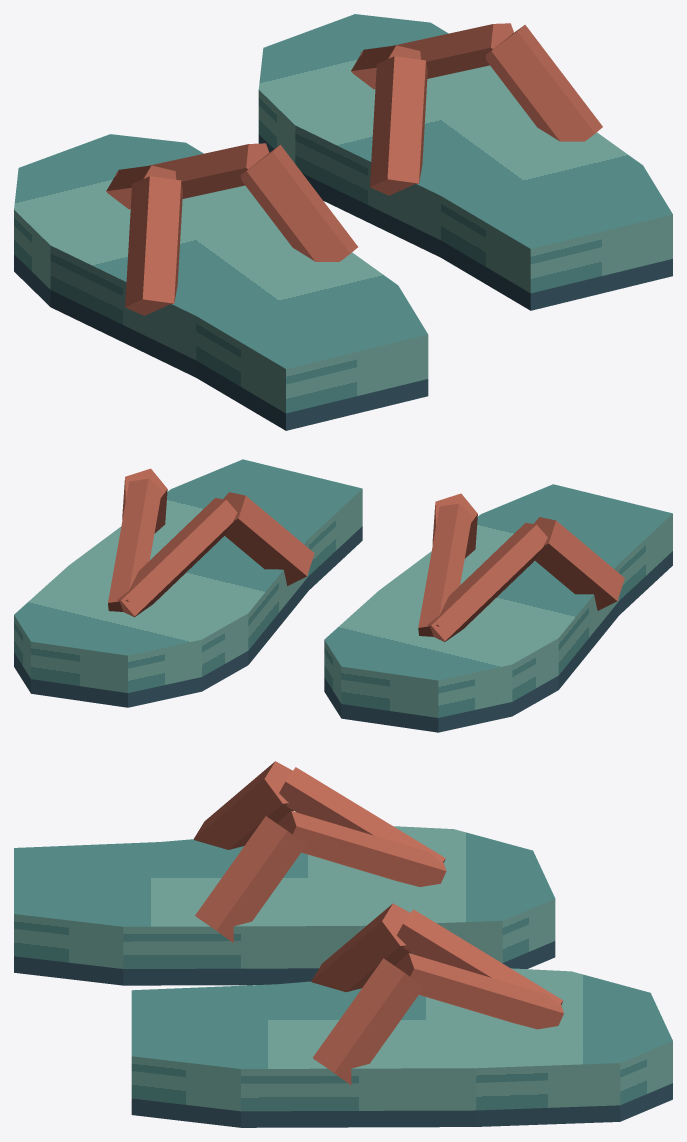
Rendered from flip-flops.glb.
The picture shows the model from 3 angles, top to bottom: view 1: azimuth 30°, elevation 25°; view 2: azimuth 150°, elevation 25°; view 3: azimuth 270°, elevation 25°; orthographic projection. The views are drawn at different scales.
Parts seen in each view (by area): view 1: flip-flops; view 2: flip-flops; view 3: flip-flops.
Part boxes in pixels (box(x1,y1,x2,y2)): flip-flops: box(14, 14, 672, 430); flip-flops: box(14, 459, 672, 732); flip-flops: box(14, 761, 672, 1127).
Size of the model in its own units: 0.2899 by 0.0796 by 0.325.
1 material, 1 textured.
